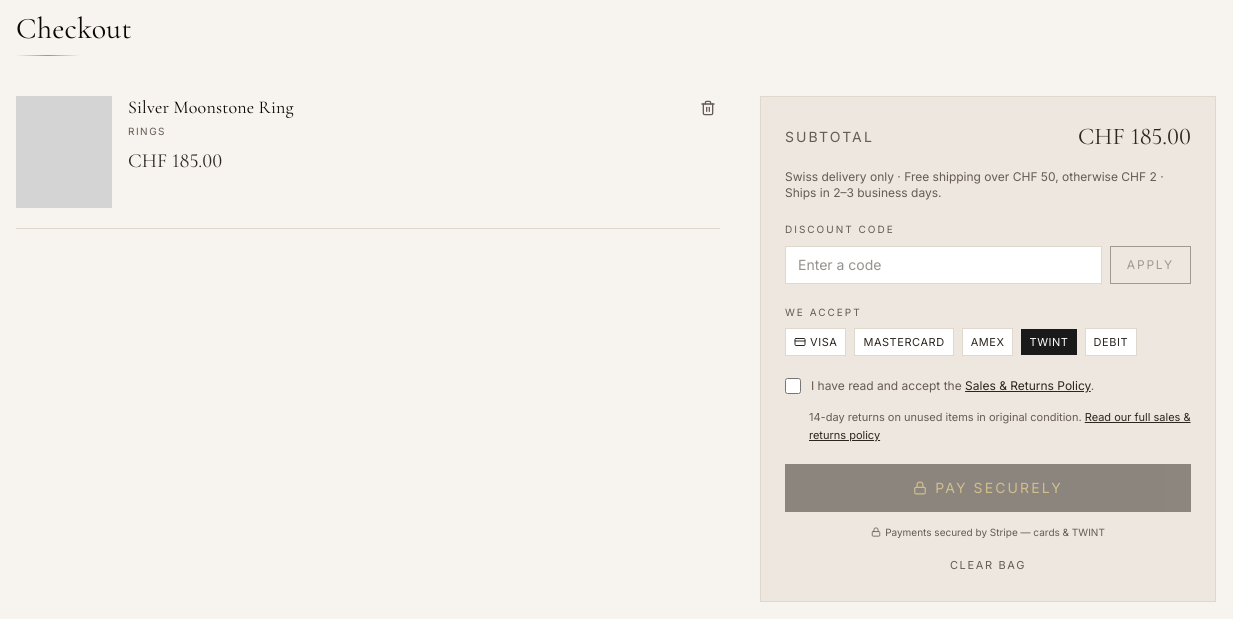
Test: Checkout page › keeps the pay button disabled until the policy is accepted
The image size is (1233, 619).
Expected: the button "Pay Securely" is disabled, [785,464,1191,512]
Click the checkbox at (793, 386), box [785,378,801,394]
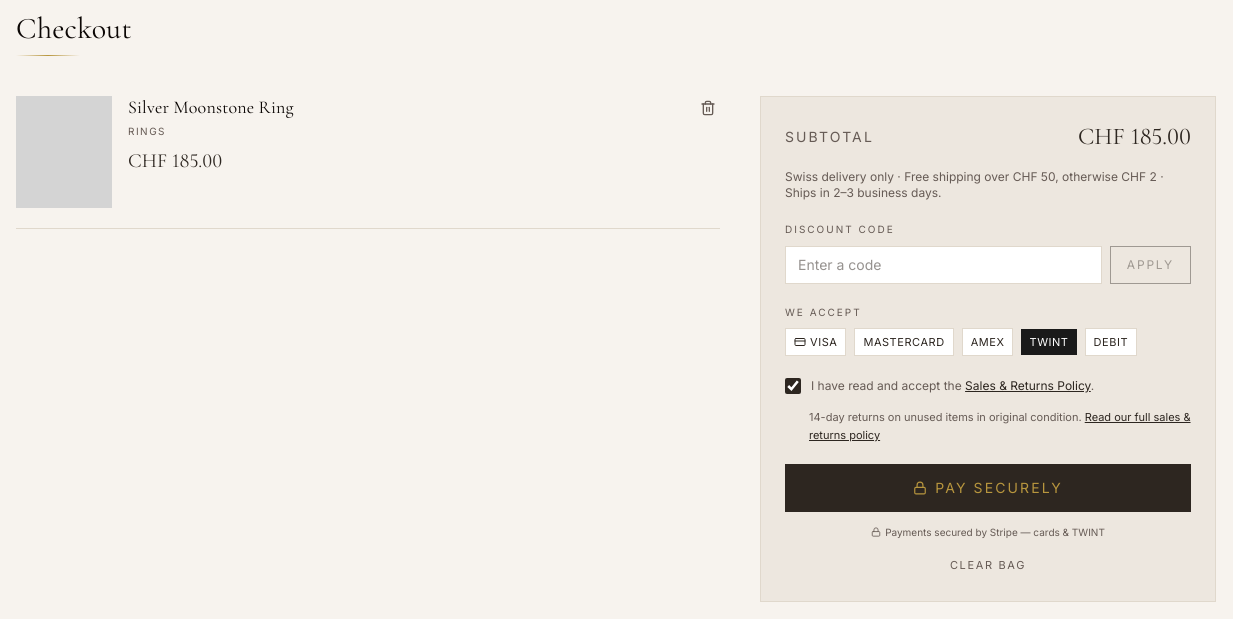
Now the button "Pay Securely" is enabled, box [785,464,1191,512]
Click the checkbox at (793, 386), box [785,378,801,394]
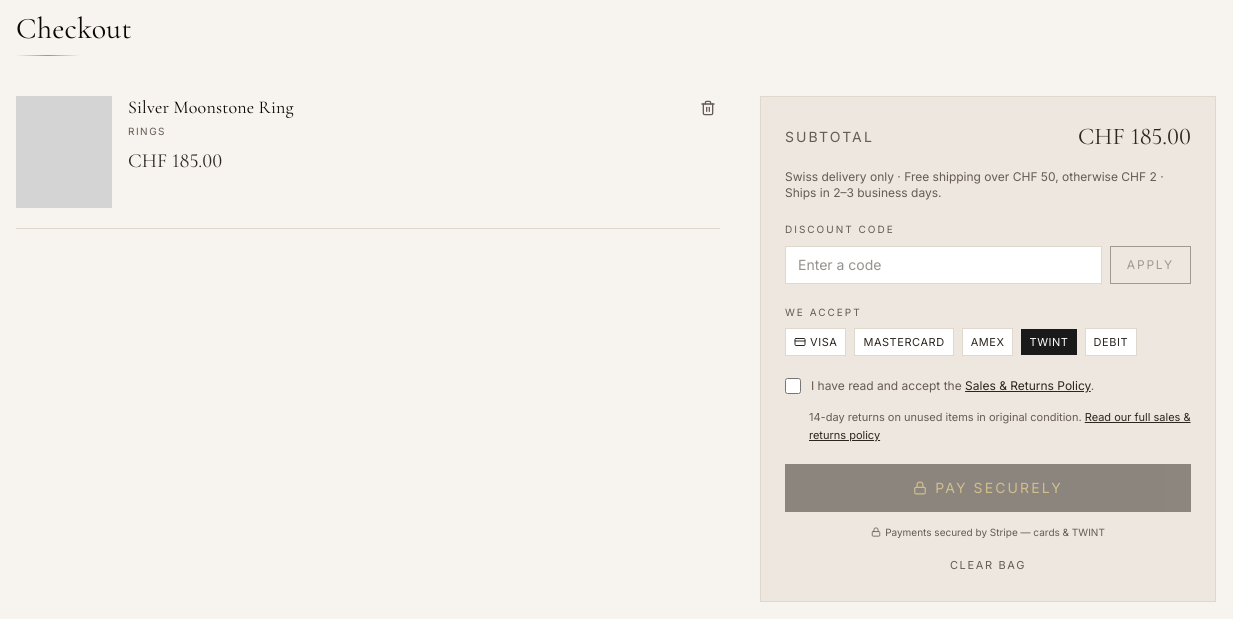
Now the button "Pay Securely" is disabled, box [785,464,1191,512]
